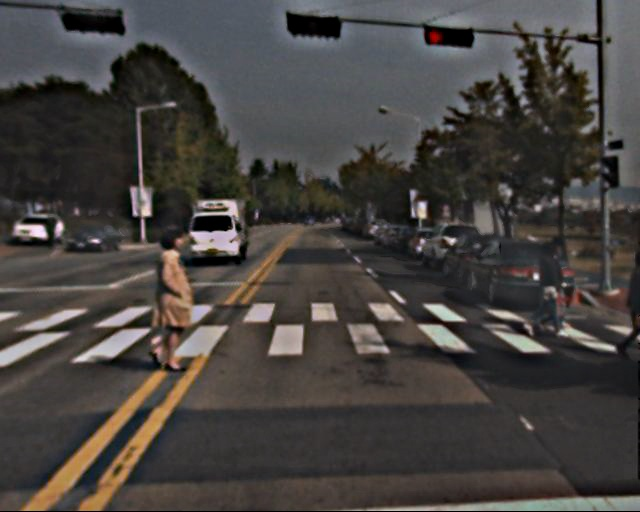person: (142, 227, 203, 376), (530, 241, 569, 337), (614, 249, 640, 360), (45, 217, 57, 246)
